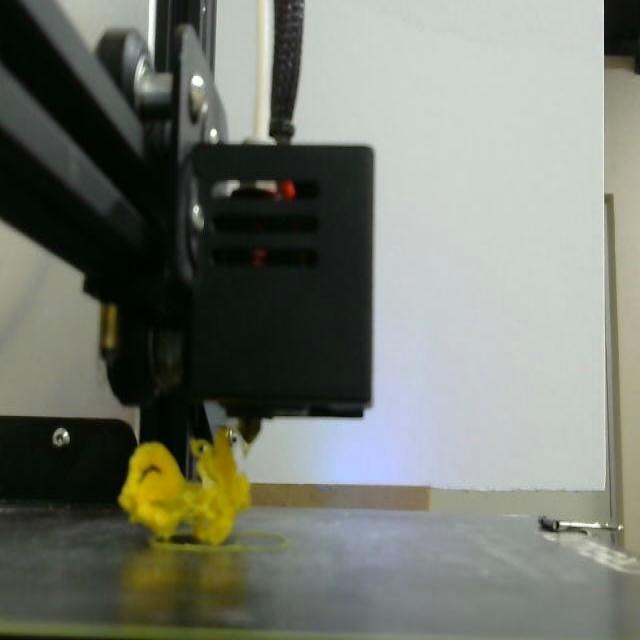spaghetti: (119, 420, 264, 556)
